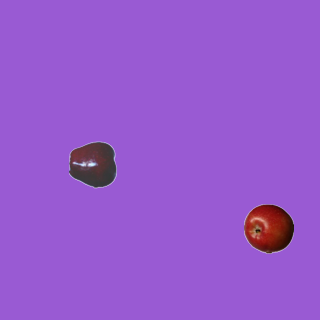Apple Braeburn: (243, 203, 293, 253)
Apple Red Delicious: (68, 139, 118, 189)
